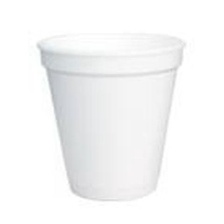paper_cup: (31, 26, 190, 207)
